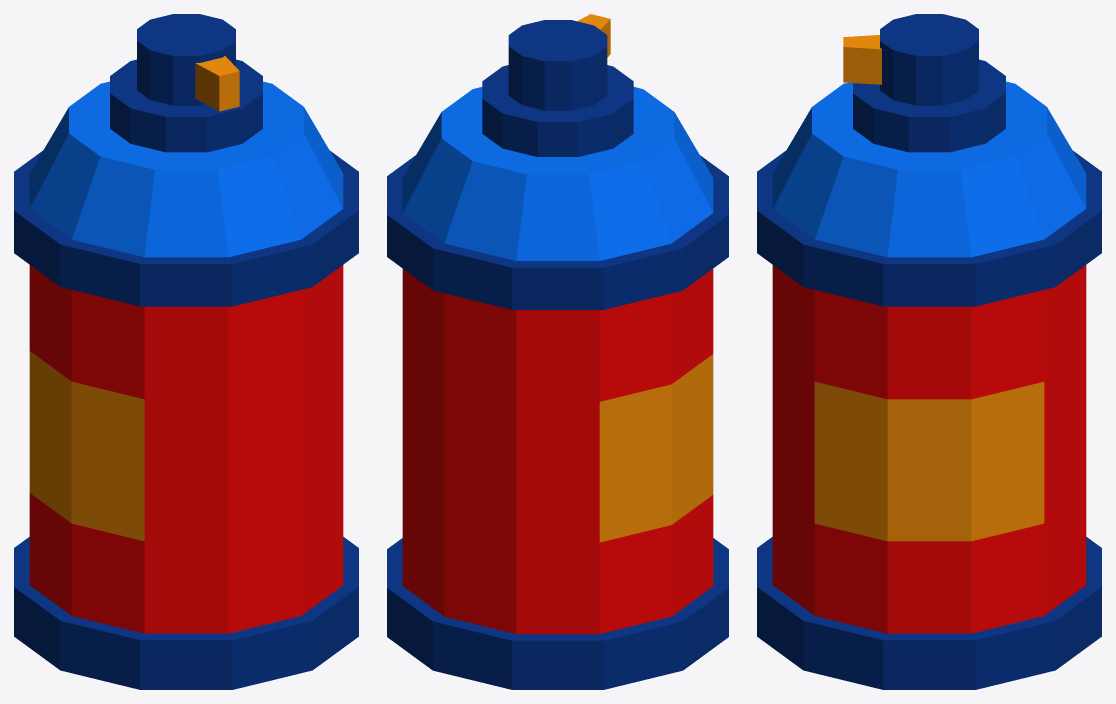
Rendered from Cooler.fbx.
3 renders of one model, left to right at view 1: azimuth 30°, elevation 25°; view 2: azimuth 150°, elevation 25°; view 3: azimuth 270°, elevation 25°, orthographic.
Parts seen in each view (by area): view 1: Cooler; view 2: Cooler; view 3: Cooler.
Boxes of the visible parts, bbox=[...] form: Cooler: bbox=[14, 14, 358, 689]; Cooler: bbox=[387, 14, 728, 689]; Cooler: bbox=[757, 14, 1101, 689].
Bounding box in the file's own units: 110 × 205 × 110.
1 material, 1 textured.
